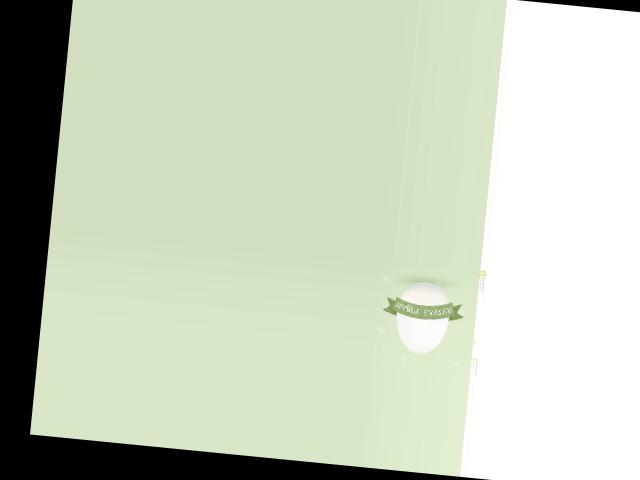egg: (394, 279, 452, 356)
